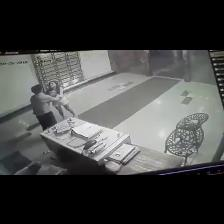person: (30, 85, 60, 130), (46, 81, 77, 119)
